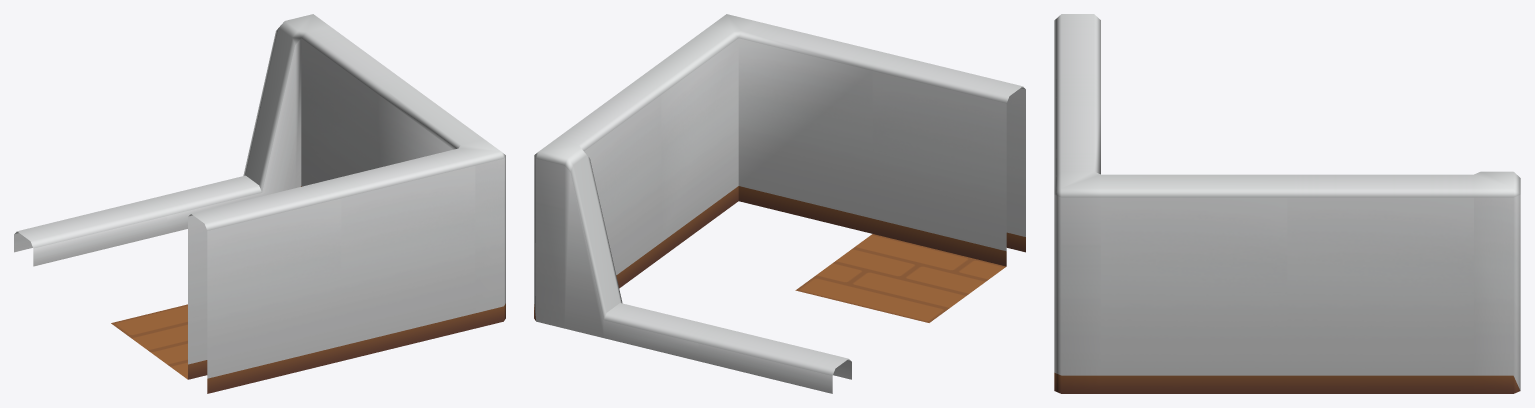
The model's file is mesh_RoomParts.fbx.
The picture shows the model from 3 angles, left to right: view 1: azimuth 30°, elevation 25°; view 2: azimuth 150°, elevation 25°; view 3: azimuth 270°, elevation 25°; orthographic projection. The views are drawn at different scales.
Parts seen in each view (by area): view 1: mesh_wallCorner, mesh_wall, mesh_wallCorner_low, mesh_wall_low, mesh_floor2x2; view 2: mesh_wallCorner, mesh_wallCorner_low, mesh_wall, mesh_floor2x2, mesh_wall_low; view 3: mesh_wallCorner, mesh_wallCorner_low, mesh_wall.
Part boxes in pixels (<box>): mesh_wallCorner: <box>325,82,505,361</box>; mesh_wall: <box>188,181,341,393</box>; mesh_wallCorner_low: <box>151,14,406,233</box>; mesh_wall_low: <box>14,198,167,266</box>; mesh_floor2x2: <box>111,304,187,379</box>; mesh_wallCorner: <box>633,14,888,257</box>; mesh_wallCorner_low: <box>534,82,714,361</box>; mesh_wall: <box>872,53,1025,266</box>; mesh_floor2x2: <box>795,234,1006,322</box>; mesh_wall_low: <box>698,326,851,393</box>; mesh_wallCorner: <box>1054,92,1287,393</box>; mesh_wallCorner_low: <box>1287,171,1520,393</box>; mesh_wall: <box>1054,14,1100,98</box>.
Bounding box in the file's own units: 4.5 × 2.4 × 5.
Materials: 1 (1 with a texture image).
